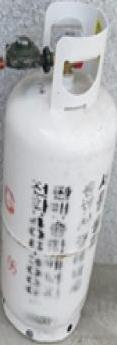cylinder: (1, 1, 117, 345)
